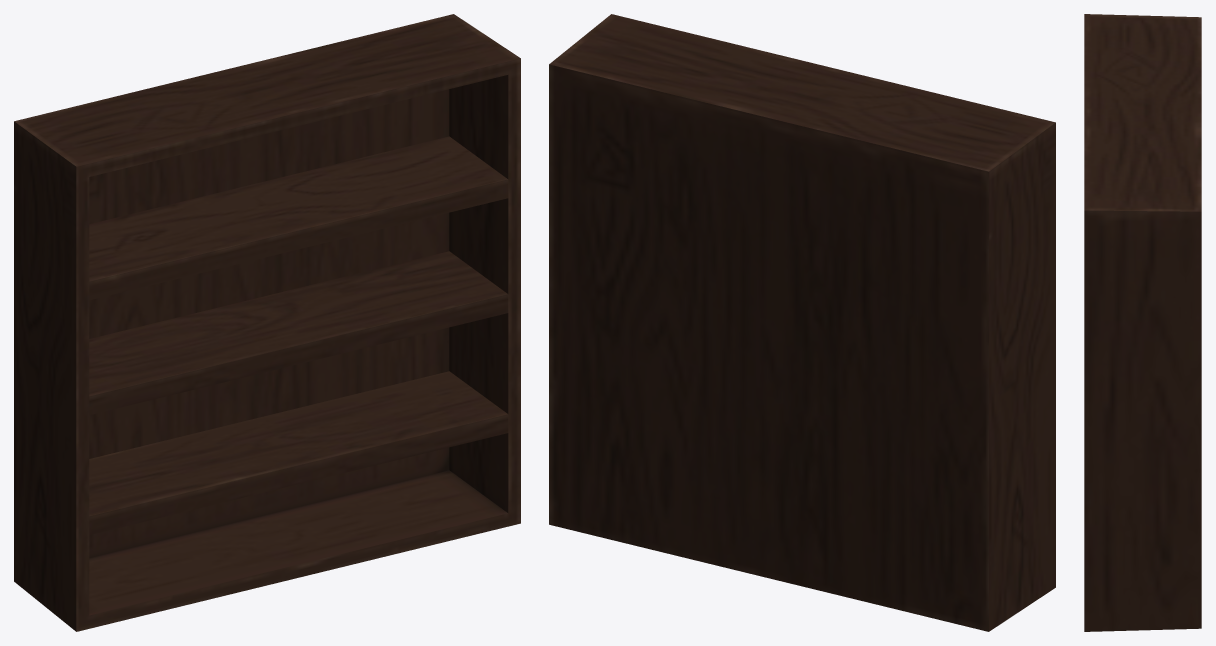
Rendered from Shelf1.fbx.
The picture shows the model from 3 angles, left to right: view 1: azimuth 30°, elevation 25°; view 2: azimuth 150°, elevation 25°; view 3: azimuth 270°, elevation 25°; orthographic projection. The views are drawn at different scales.
Parts seen in each view (by area): view 1: Book Shelf MODULO 02; view 2: Book Shelf MODULO 02; view 3: Book Shelf MODULO 02.
Boxes of the visible parts, left/top/right/bottom form: Book Shelf MODULO 02: left=14, top=14, right=520, bottom=631; Book Shelf MODULO 02: left=549, top=14, right=1055, bottom=631; Book Shelf MODULO 02: left=1084, top=14, right=1201, bottom=631.
Size of the model in its own units: 252 by 252 by 63.56.
